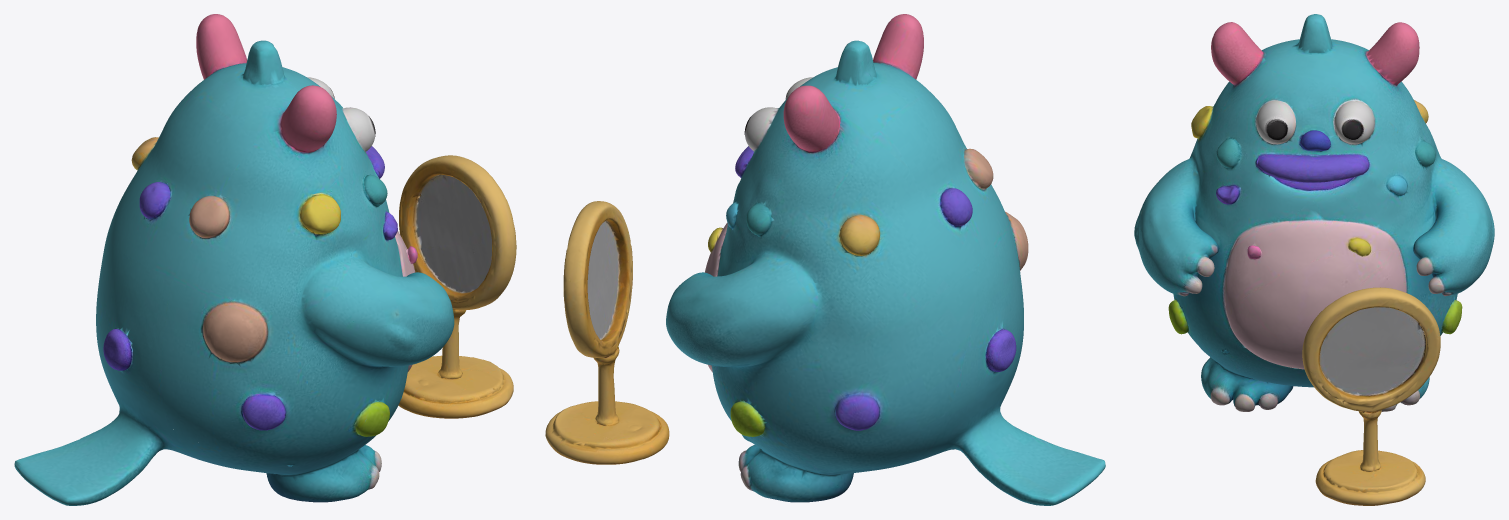
Rendered from env_nest_monster_20.glb.
3 views of the same model, side by side, from view 1: azimuth 30°, elevation 25°; view 2: azimuth 150°, elevation 25°; view 3: azimuth 270°, elevation 25° (orthographic). The views are drawn at different scales.
Parts seen in each view (by area): view 1: tripo_node_04c89437-7883-4159-9bdd-248d6aa95f02; view 2: tripo_node_04c89437-7883-4159-9bdd-248d6aa95f02; view 3: tripo_node_04c89437-7883-4159-9bdd-248d6aa95f02.
Boxes of the visible parts, box(x1,y1,x2,y2) form: tripo_node_04c89437-7883-4159-9bdd-248d6aa95f02: box(14, 14, 516, 505); tripo_node_04c89437-7883-4159-9bdd-248d6aa95f02: box(545, 14, 1105, 505); tripo_node_04c89437-7883-4159-9bdd-248d6aa95f02: box(1134, 14, 1494, 505).
Bounding box in the file's own units: 1.34 × 1.1 × 0.954.
1 material, 1 textured.
